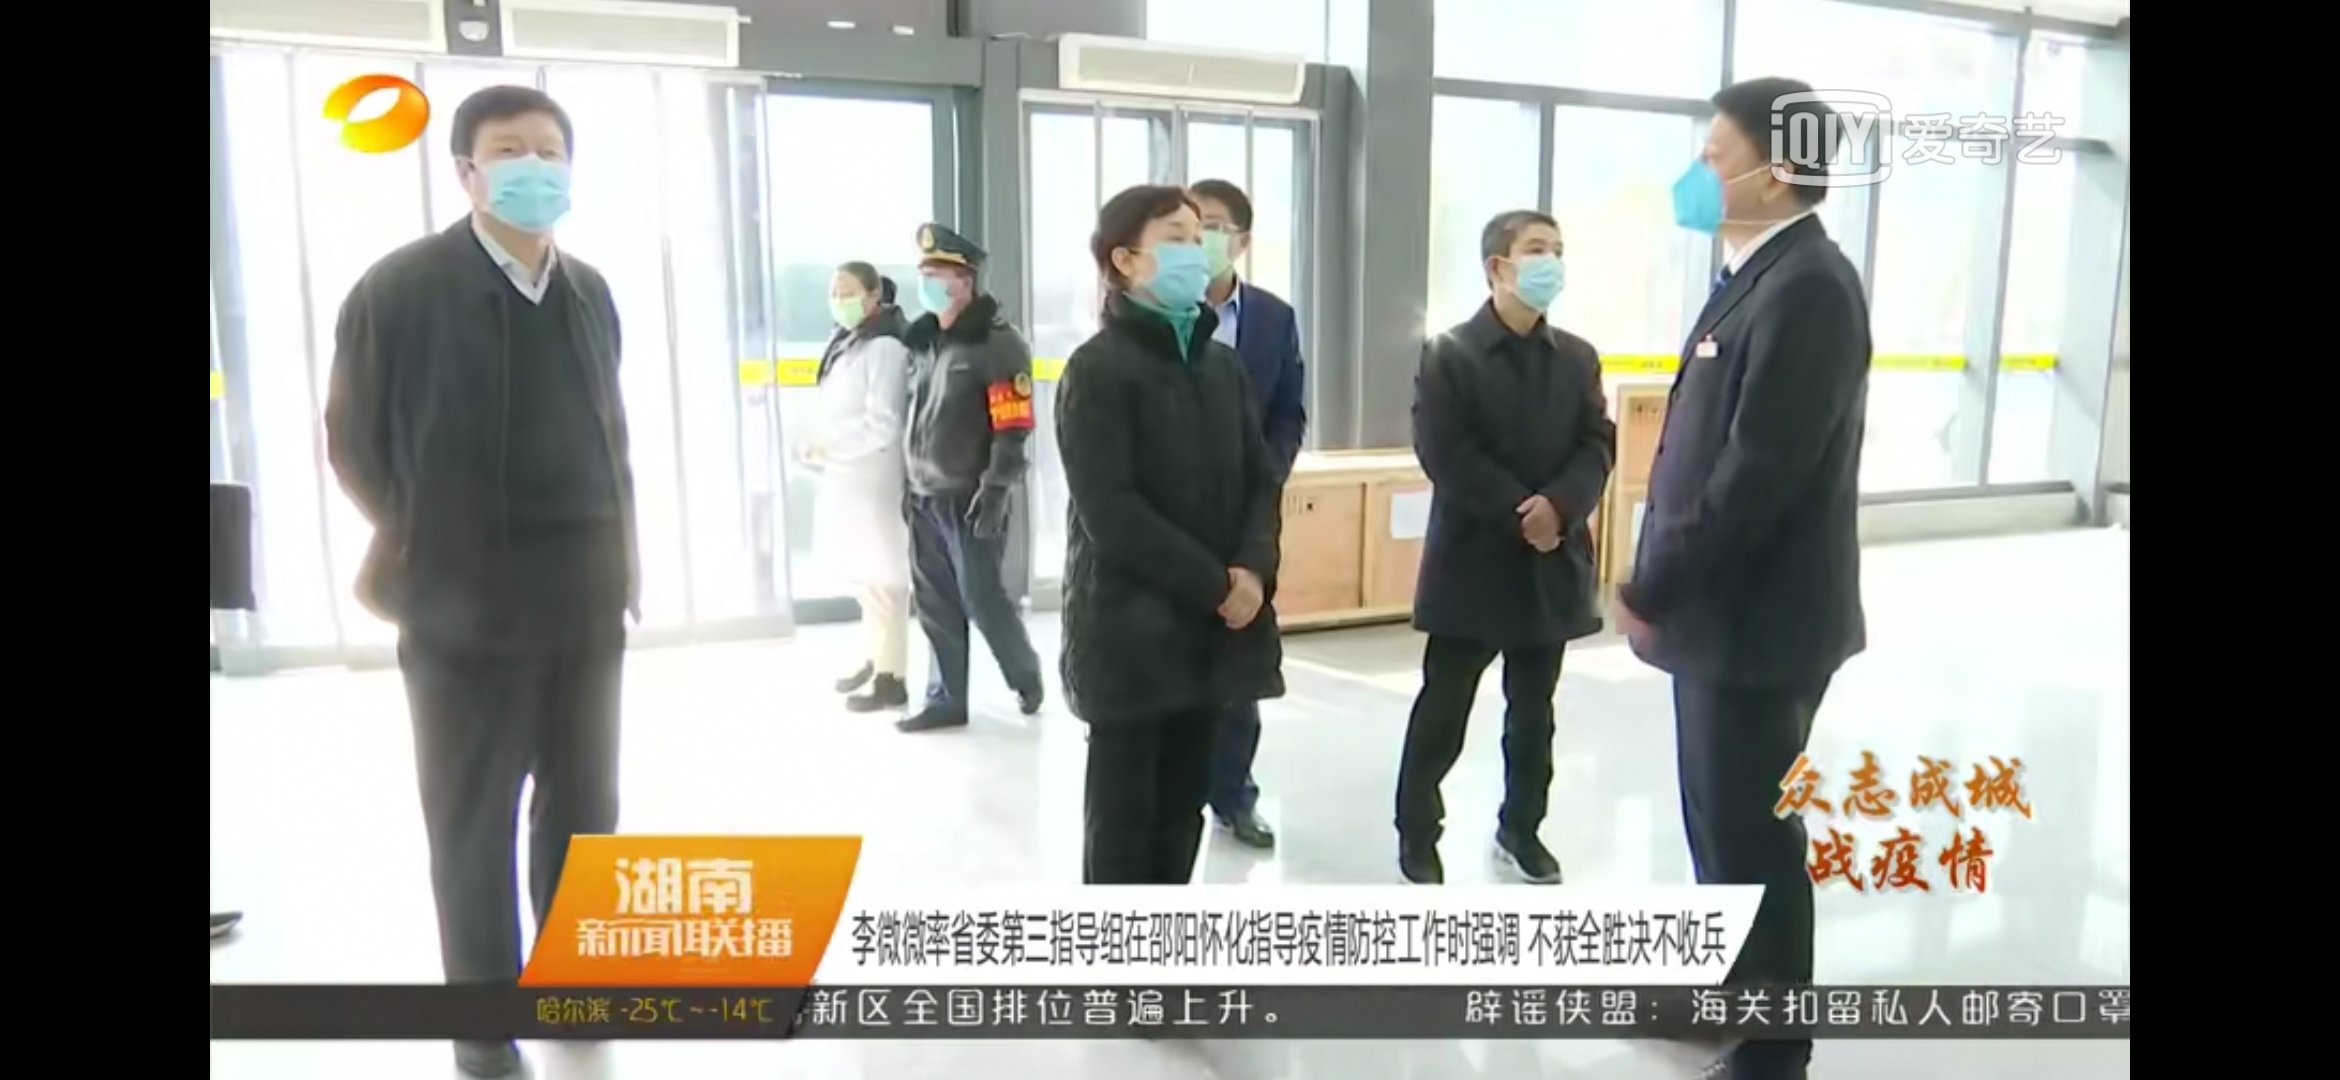correctlyWear: (1670, 125, 1792, 242), (457, 124, 581, 239), (1104, 209, 1198, 303), (1482, 230, 1571, 316), (912, 248, 983, 318), (1192, 203, 1255, 269), (822, 274, 886, 336)
